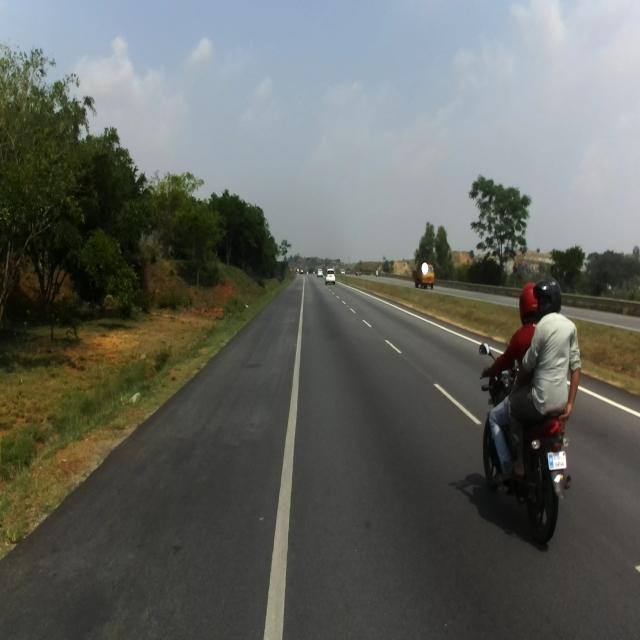car: (324, 268, 336, 284)
motorcycle: (479, 342, 572, 542)
